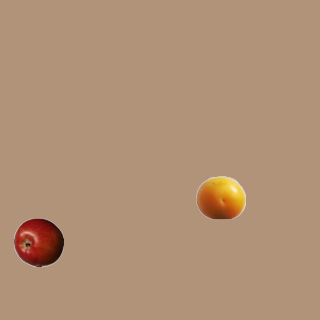Apple Braeburn: (13, 217, 63, 267)
Cherry Wax Yellow: (195, 172, 245, 222)
